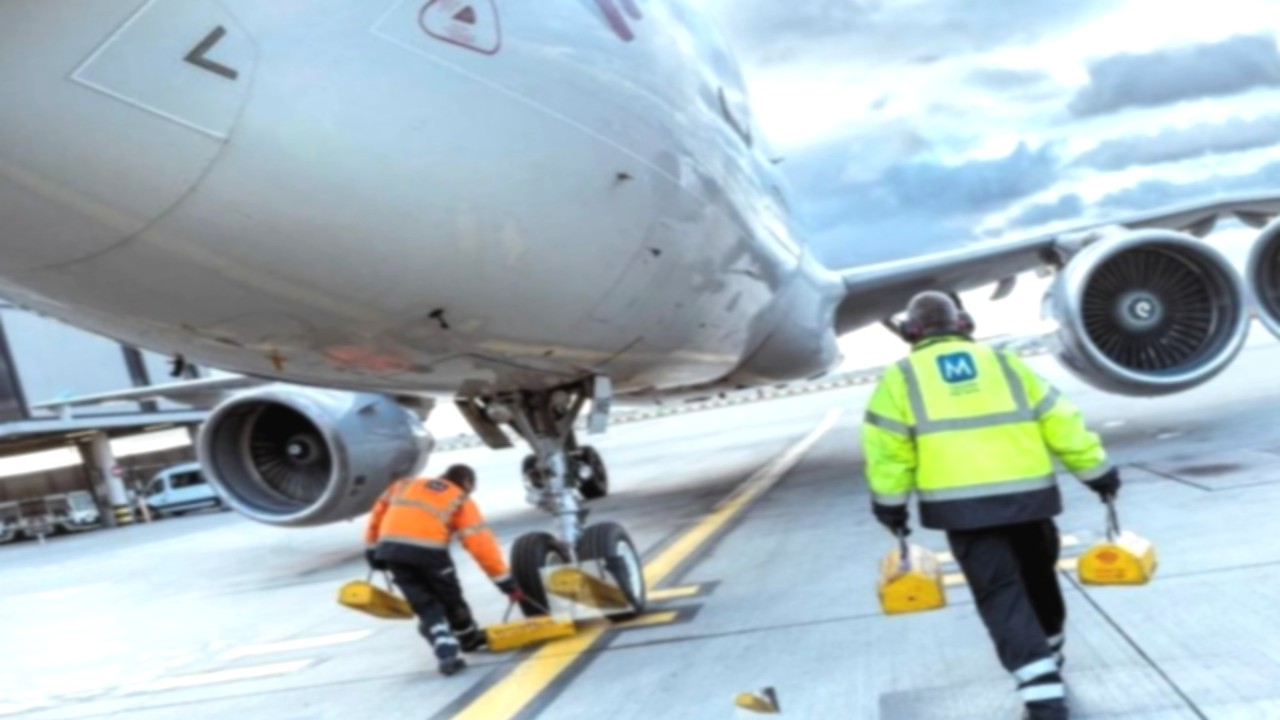chock: (1062, 520, 1172, 598), (859, 532, 952, 624), (538, 555, 639, 623), (331, 570, 424, 633), (479, 609, 579, 656), (732, 687, 781, 720)
wheel: (570, 516, 656, 626), (501, 526, 589, 627), (566, 442, 614, 500), (518, 452, 548, 485)
